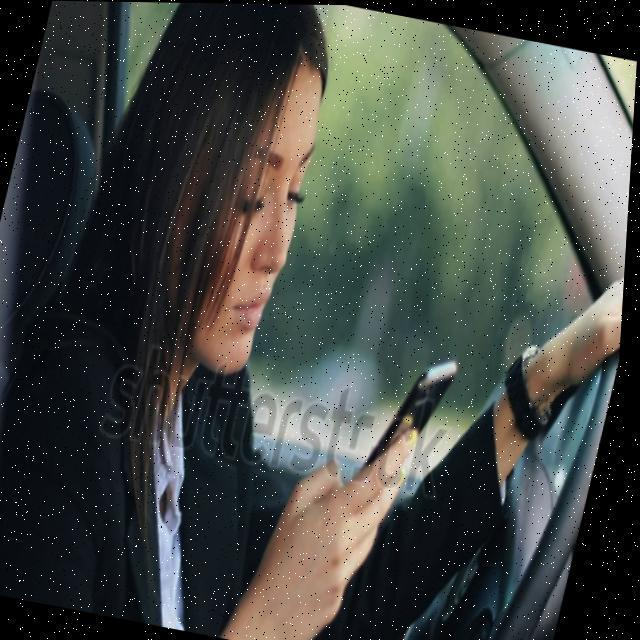PhoneCall: (352, 350, 464, 518)
